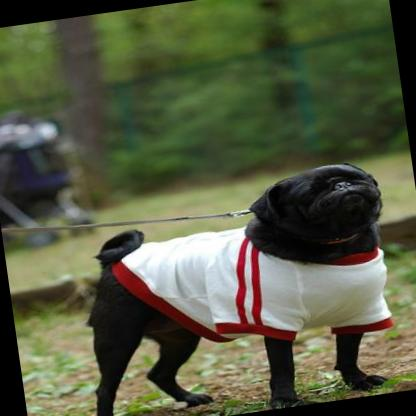pug: (52, 154, 412, 416)
